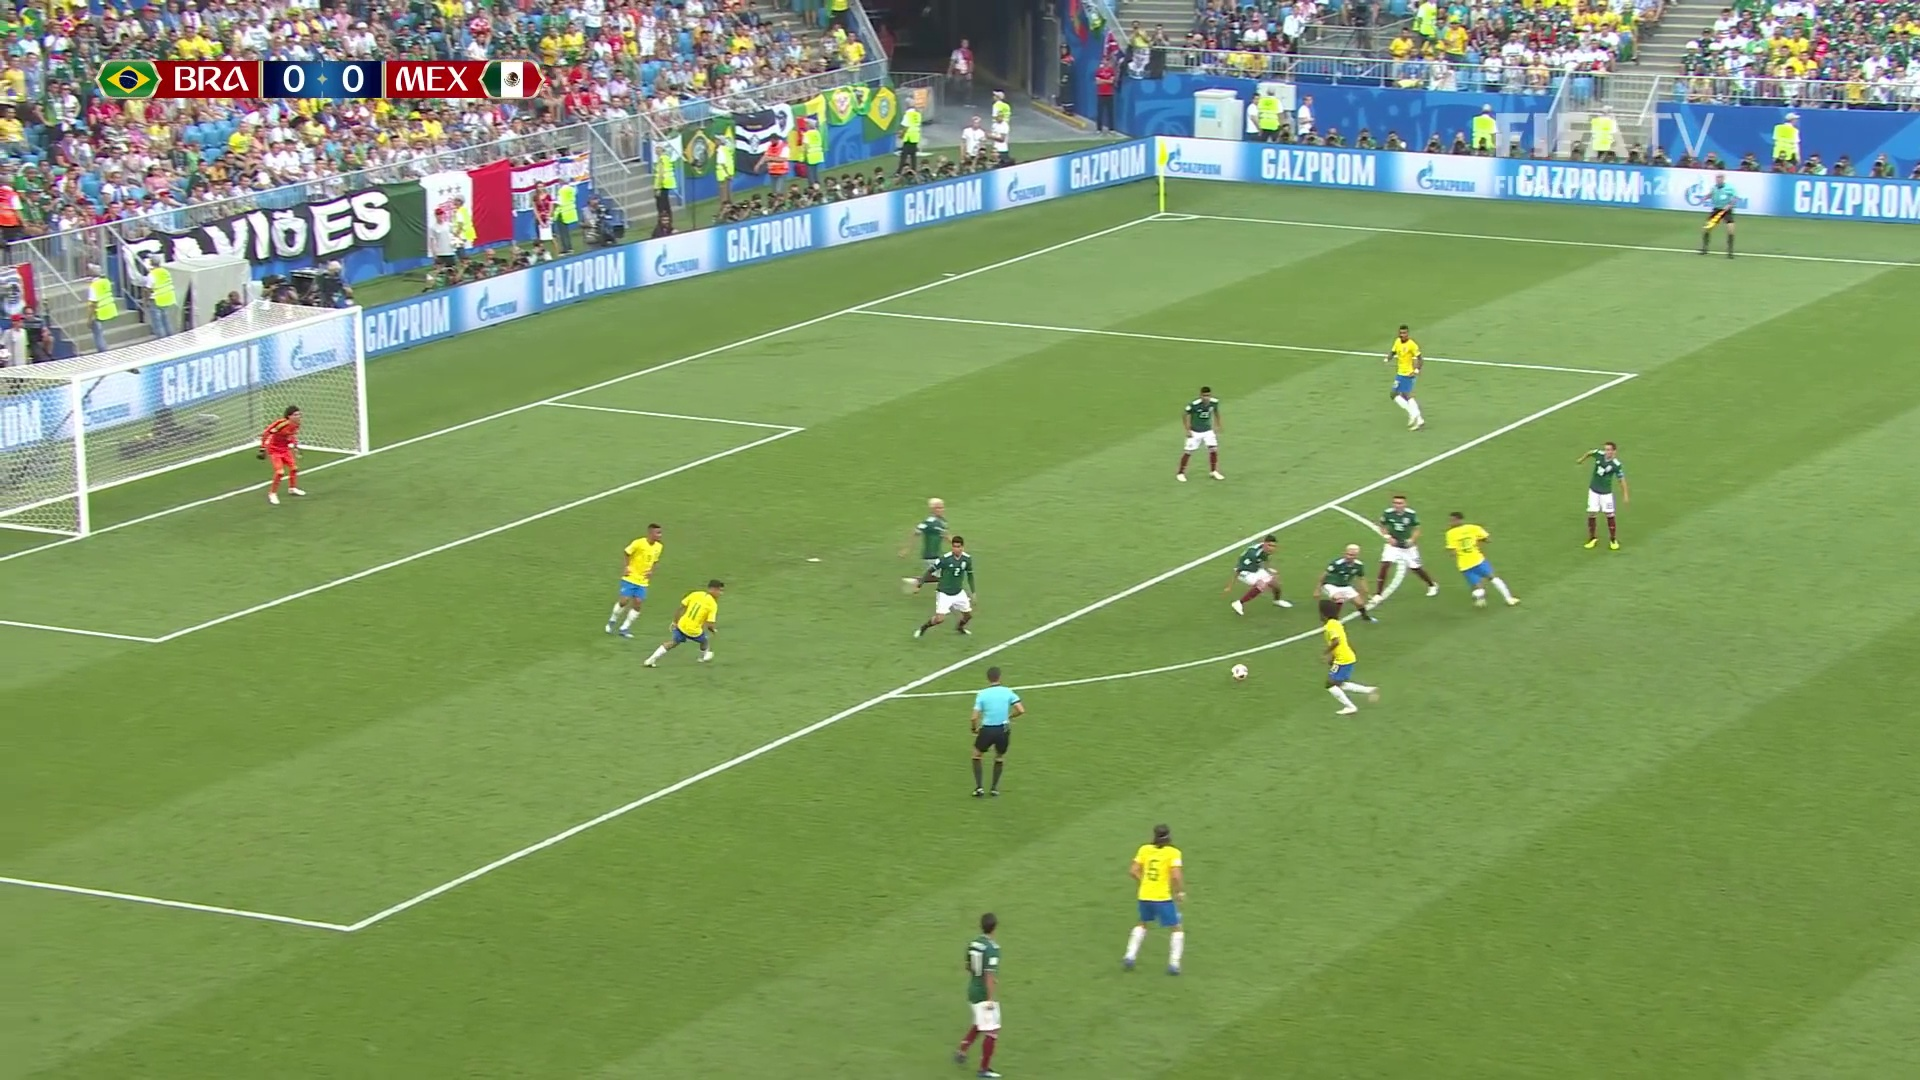ball: (1230, 665, 1247, 680)
person: (1125, 825, 1184, 972), (957, 914, 1005, 1078), (1316, 602, 1382, 716), (603, 524, 665, 636), (1446, 514, 1518, 605), (914, 536, 979, 634), (1376, 496, 1436, 600), (1576, 442, 1627, 547), (655, 582, 717, 661), (1229, 535, 1292, 612), (257, 406, 307, 503), (1319, 542, 1377, 624), (1179, 386, 1226, 481), (1385, 325, 1426, 431), (905, 497, 949, 561)
